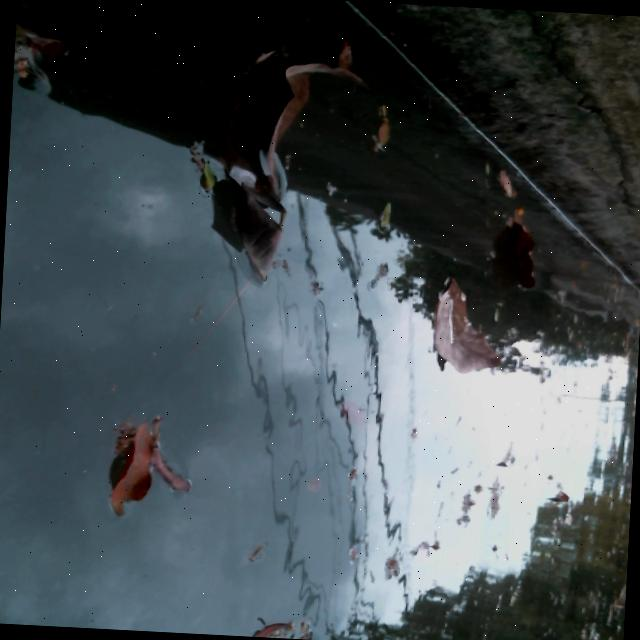Big-leaf: (247, 50, 356, 204), (208, 163, 292, 284), (493, 202, 546, 291)
Small-leaf: (421, 276, 509, 380), (106, 420, 165, 517), (12, 26, 84, 92), (143, 436, 196, 493), (358, 100, 401, 156), (489, 168, 528, 201), (335, 394, 368, 430), (368, 198, 397, 235), (253, 613, 292, 639), (547, 486, 573, 508)
